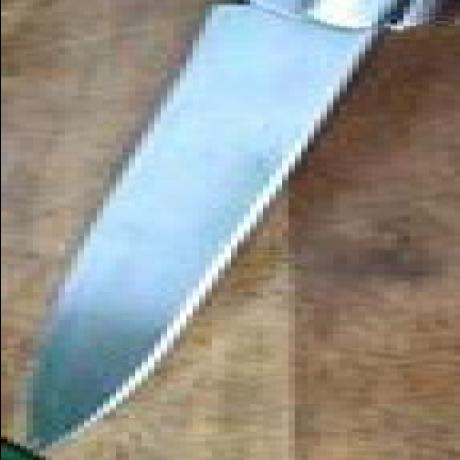weapon: (32, 0, 422, 450)
